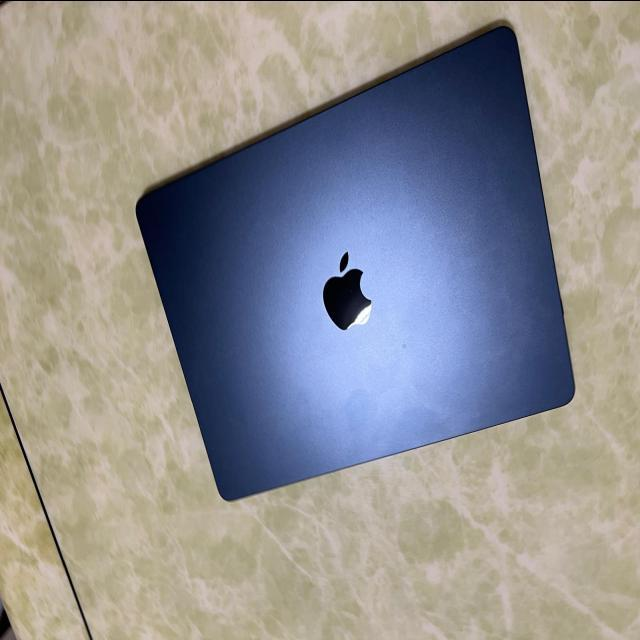laptop: (133, 20, 576, 501)
